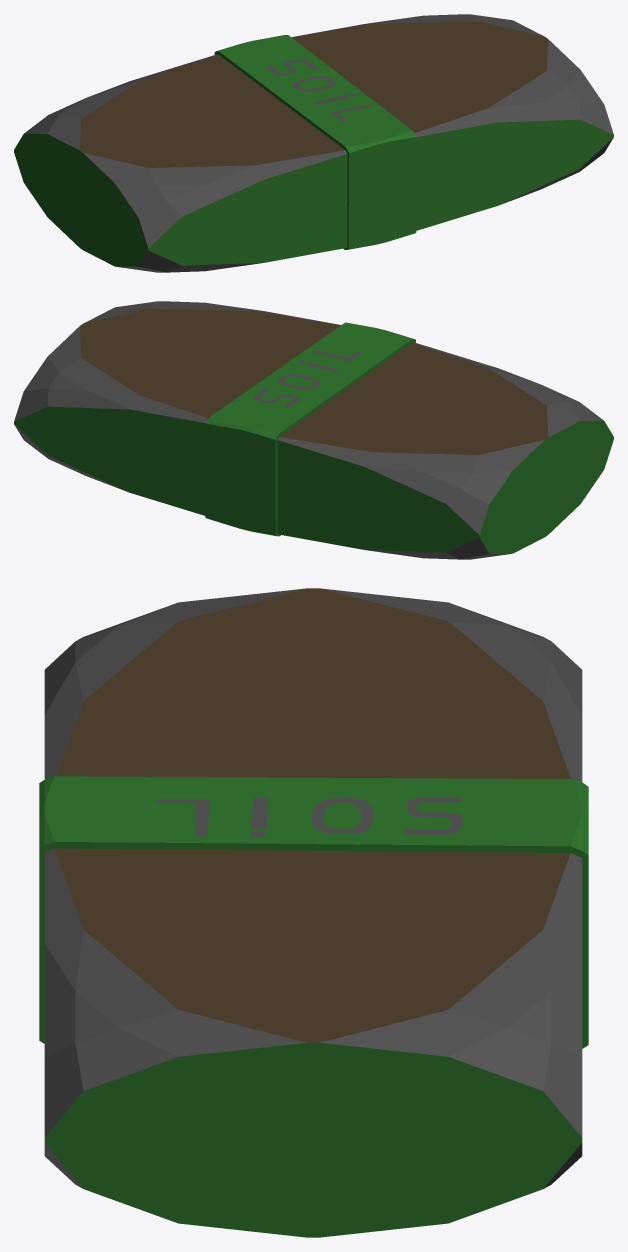
Rendered from soil.fbx.
3 views of the same model, one above another, from view 1: azimuth 30°, elevation 25°; view 2: azimuth 150°, elevation 25°; view 3: azimuth 270°, elevation 25° (orthographic). The views are drawn at different scales.
Visible parts, largest first — view 1: Cube; view 2: Cube; view 3: Cube.
Part boxes in pixels (x1,y1,x2,y2): Cube: [14, 14, 613, 272]; Cube: [14, 301, 613, 559]; Cube: [39, 588, 588, 1237].
Bounding box in the file's own units: 100 × 21.15 × 51.1.
